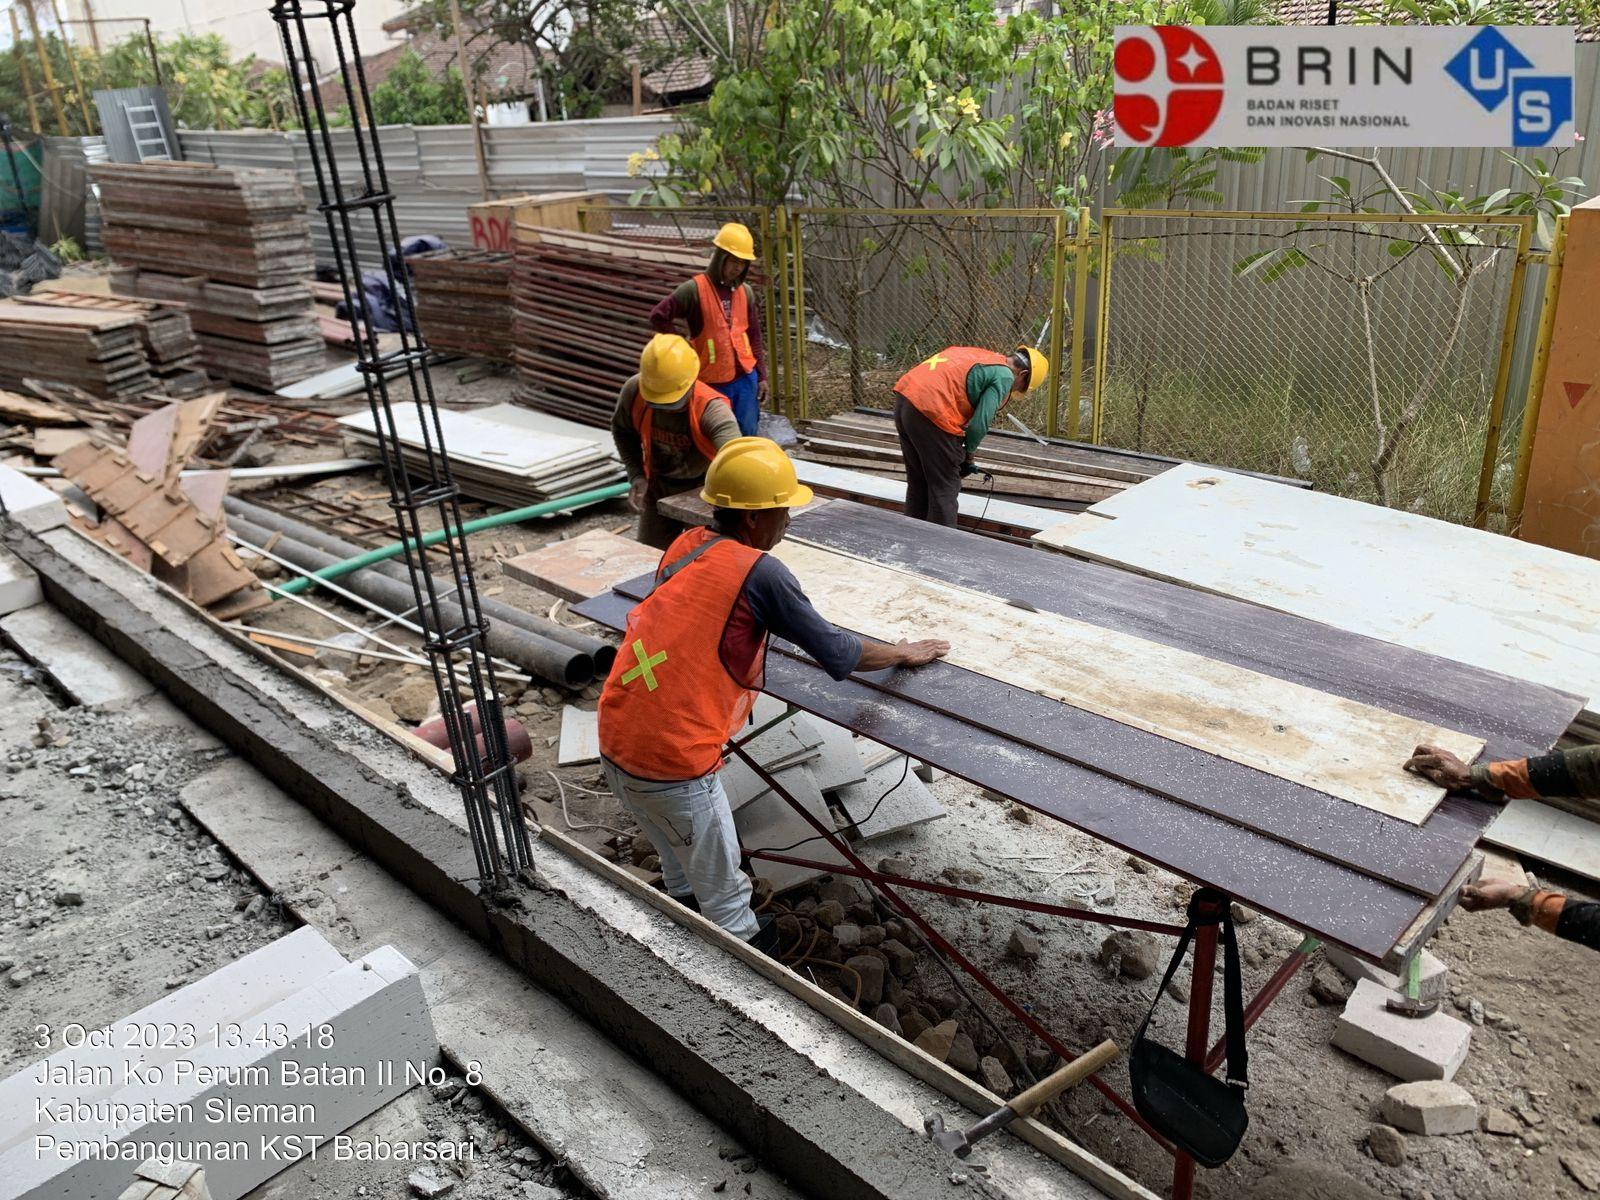hat: (698, 418, 848, 561), (684, 192, 784, 304), (624, 308, 711, 429), (1014, 311, 1081, 424)
vest: (614, 511, 814, 824), (884, 304, 1018, 488), (581, 350, 718, 498), (668, 251, 771, 405)
